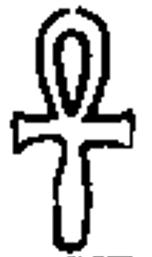Ankh: (10, 10, 143, 255)
